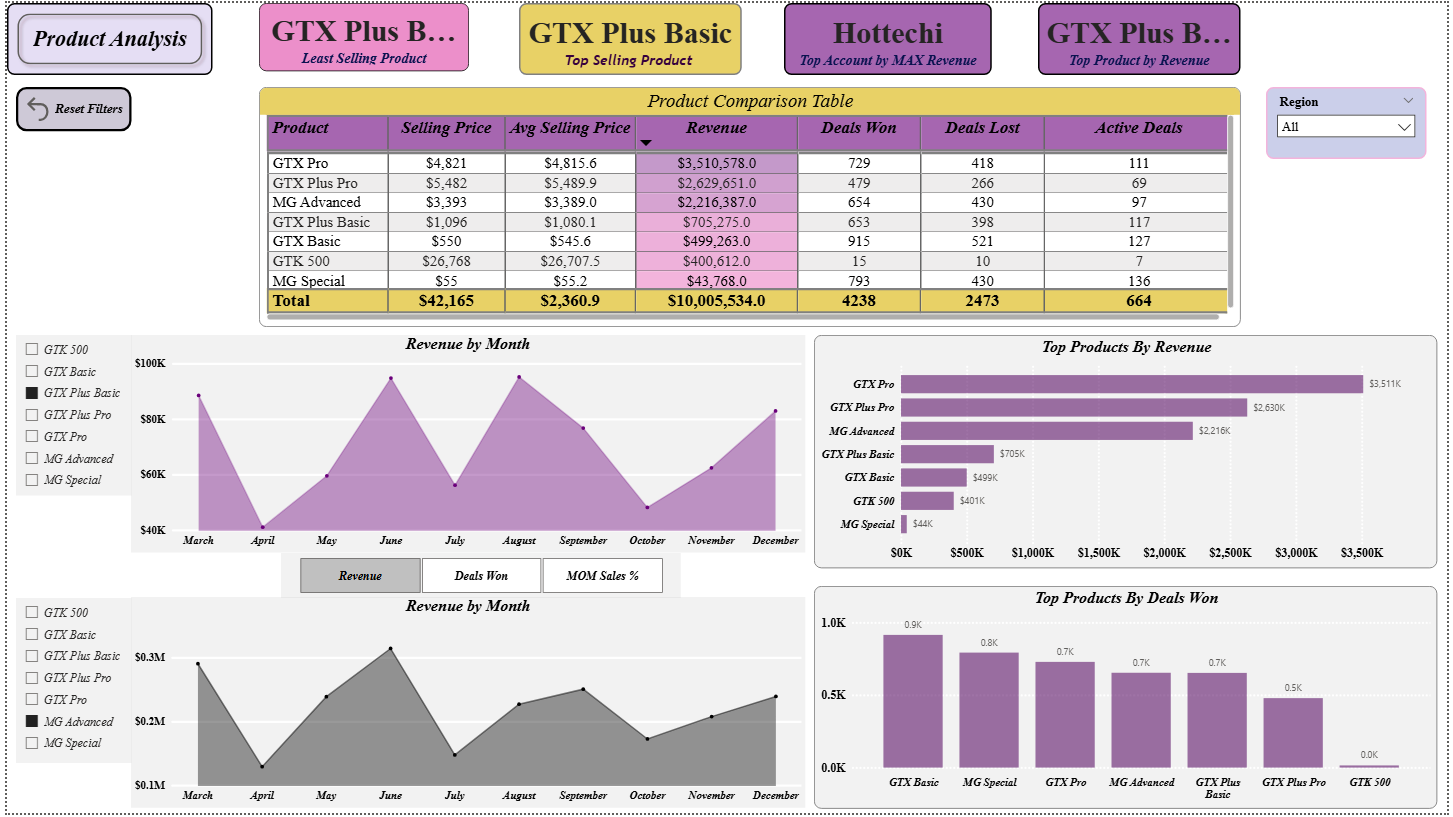

Layout of this report page (visuals, bound fields, positions):
{"tool":"powerbi","page":{"name":"Product Analysis","canvas":[1920,1080],"ordinal":1},"visuals":[{"type":"tableEx","title":"Product Comparison Table","fields":{"Values":["products.product","#measures.Price","#measures.Avg_Selling_Price","#measures.Revenue","#measures.Deals Won","#measures.Deals Lost","#measures.Prospect/Engage Deals"]},"box":[335.7,111.4,1308.6,320],"z":0},{"type":"columnChart","title":"Top Products By Deals Won","fields":{"Category":["products.product"],"Y":["#measures.Deals Won"]},"box":[1075.7,777.1,831.4,297.1],"z":1000},{"type":"barChart","title":"Top Products By Revenue  ","fields":{"Category":["products.product"],"Y":["#measures.Revenue"]},"box":[1075.7,442.9,831.4,311.4],"z":2000},{"type":"areaChart","fields":{"Y":["#measures.Revenue"],"Category":["sales_pipeline.close_date.Variation.Date Hierarchy.Month"]},"box":[165.7,442.9,898.6,290],"z":3000},{"type":"slicer","fields":{"Values":["Product Parms.Product Parms"]},"box":[365.7,732.9,532.9,60],"z":4000},{"type":"areaChart","fields":{"Y":["#measures.Revenue"],"Category":["sales_pipeline.close_date.Variation.Date Hierarchy.Month"]},"box":[165.4,792.4,899.1,281.2],"z":5000},{"type":"slicer","fields":{"Values":["products.product"]},"box":[11.4,442.9,154.3,214.3],"z":6000},{"type":"slicer","fields":{"Values":["products.product"]},"box":[11.4,792.9,154.3,220],"z":7000},{"type":"actionButton","box":[11.4,111.4,154.3,58.6],"z":9000},{"type":"card","fields":{"Values":["#measures.Top Product by Count"]},"box":[682.9,0,297.1,95.7],"z":10000},{"type":"card","fields":{"Values":["#measures.Top Product by Revenue"]},"box":[1374.3,0,270,95.7],"z":11000},{"type":"card","fields":{"Values":["#measures.Least Selling Product by Count"]},"box":[335.7,0,280,91.4],"z":12000},{"type":"slicer","fields":{"Values":["sales_teams.regional_office"]},"box":[1678.6,111.4,214.3,95.7],"z":13000},{"type":"actionButton","title":"Product Analysis","box":[0,0,274.3,95.7],"z":14000},{"type":"card","fields":{"Values":["#measures.Top Account by MAx Revenue"]},"box":[1035.7,0,277.1,95.7],"z":16000}]}

Visuals, with their boxes in screenshot pixels (x1, y1, x2, y2), scaled from the page's 1920x1080 canvas onto the 1453x817 screenshot:
"Product Comparison Table" tableEx: <bbox>254, 84, 1244, 326</bbox>
"Top Products By Deals Won" columnChart: <bbox>814, 588, 1443, 813</bbox>
"Top Products By Revenue  " barChart: <bbox>814, 335, 1443, 571</bbox>
areaChart - #measures.Revenue x sales_pipeline.close_date.Variation.Date Hierarchy.Month: <bbox>125, 335, 805, 554</bbox>
slicer - Product Parms.Product Parms: <bbox>277, 554, 680, 600</bbox>
areaChart - #measures.Revenue x sales_pipeline.close_date.Variation.Date Hierarchy.Month: <bbox>125, 599, 806, 812</bbox>
slicer - products.product: <bbox>9, 335, 125, 497</bbox>
slicer - products.product: <bbox>9, 600, 125, 766</bbox>
actionButton: <bbox>9, 84, 125, 129</bbox>
card - #measures.Top Product by Count: <bbox>517, 0, 742, 72</bbox>
card - #measures.Top Product by Revenue: <bbox>1040, 0, 1244, 72</bbox>
card - #measures.Least Selling Product by Count: <bbox>254, 0, 466, 69</bbox>
slicer - sales_teams.regional_office: <bbox>1270, 84, 1432, 157</bbox>
"Product Analysis" actionButton: <bbox>0, 0, 208, 72</bbox>
card - #measures.Top Account by MAx Revenue: <bbox>784, 0, 993, 72</bbox>
